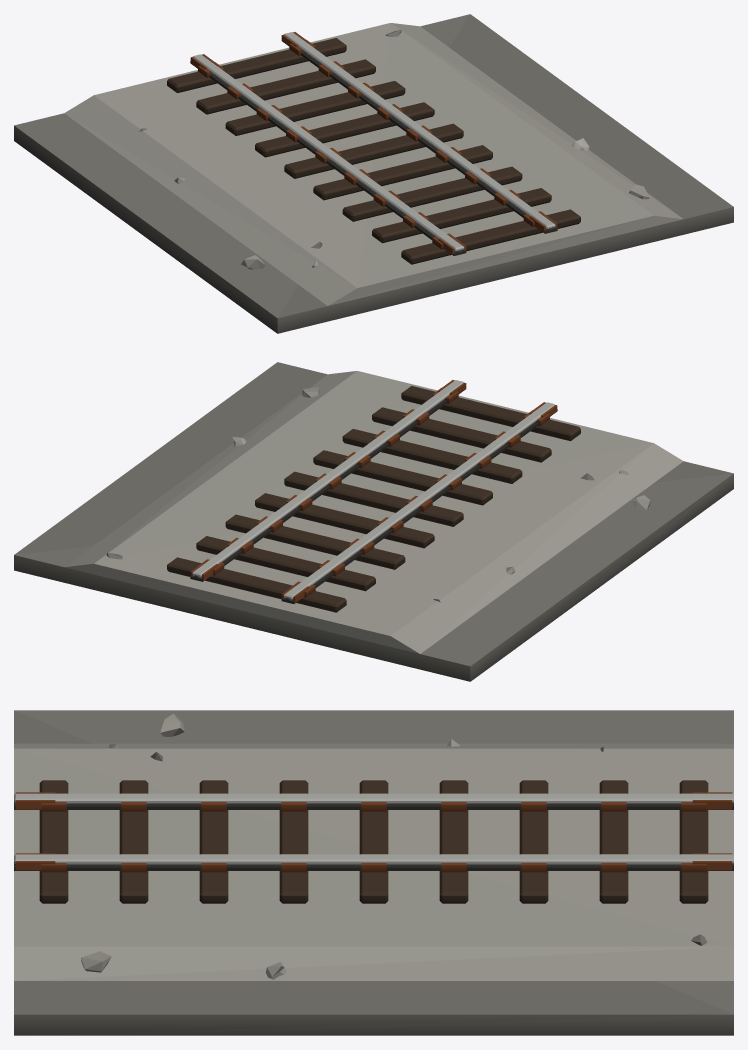
Rendered from track-straight-tile.glb.
3 views of the same model, one above another, from view 1: azimuth 30°, elevation 25°; view 2: azimuth 150°, elevation 25°; view 3: azimuth 270°, elevation 25° (orthographic). The views are drawn at different scales.
Parts seen in each view (by area): view 1: track_straight_tile; view 2: track_straight_tile; view 3: track_straight_tile.
Part boxes in pixels (<box>): track_straight_tile: <box>14,14,733,333</box>; track_straight_tile: <box>14,362,733,681</box>; track_straight_tile: <box>14,710,733,1035</box>.
Bounding box in the file's own units: 4 × 0.3501 × 4.
